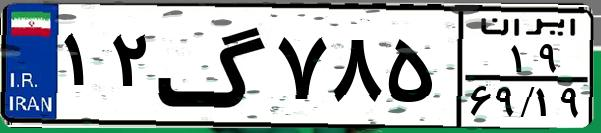1: (57, 26, 110, 100), (508, 27, 537, 80), (535, 70, 560, 125)
2: (110, 28, 156, 98)
5: (385, 28, 445, 110)
6: (470, 70, 495, 125)
7: (270, 28, 330, 110)
8: (330, 28, 385, 110)
9: (560, 70, 590, 125), (537, 27, 568, 80), (495, 70, 520, 125)
گ: (156, 12, 270, 120)
